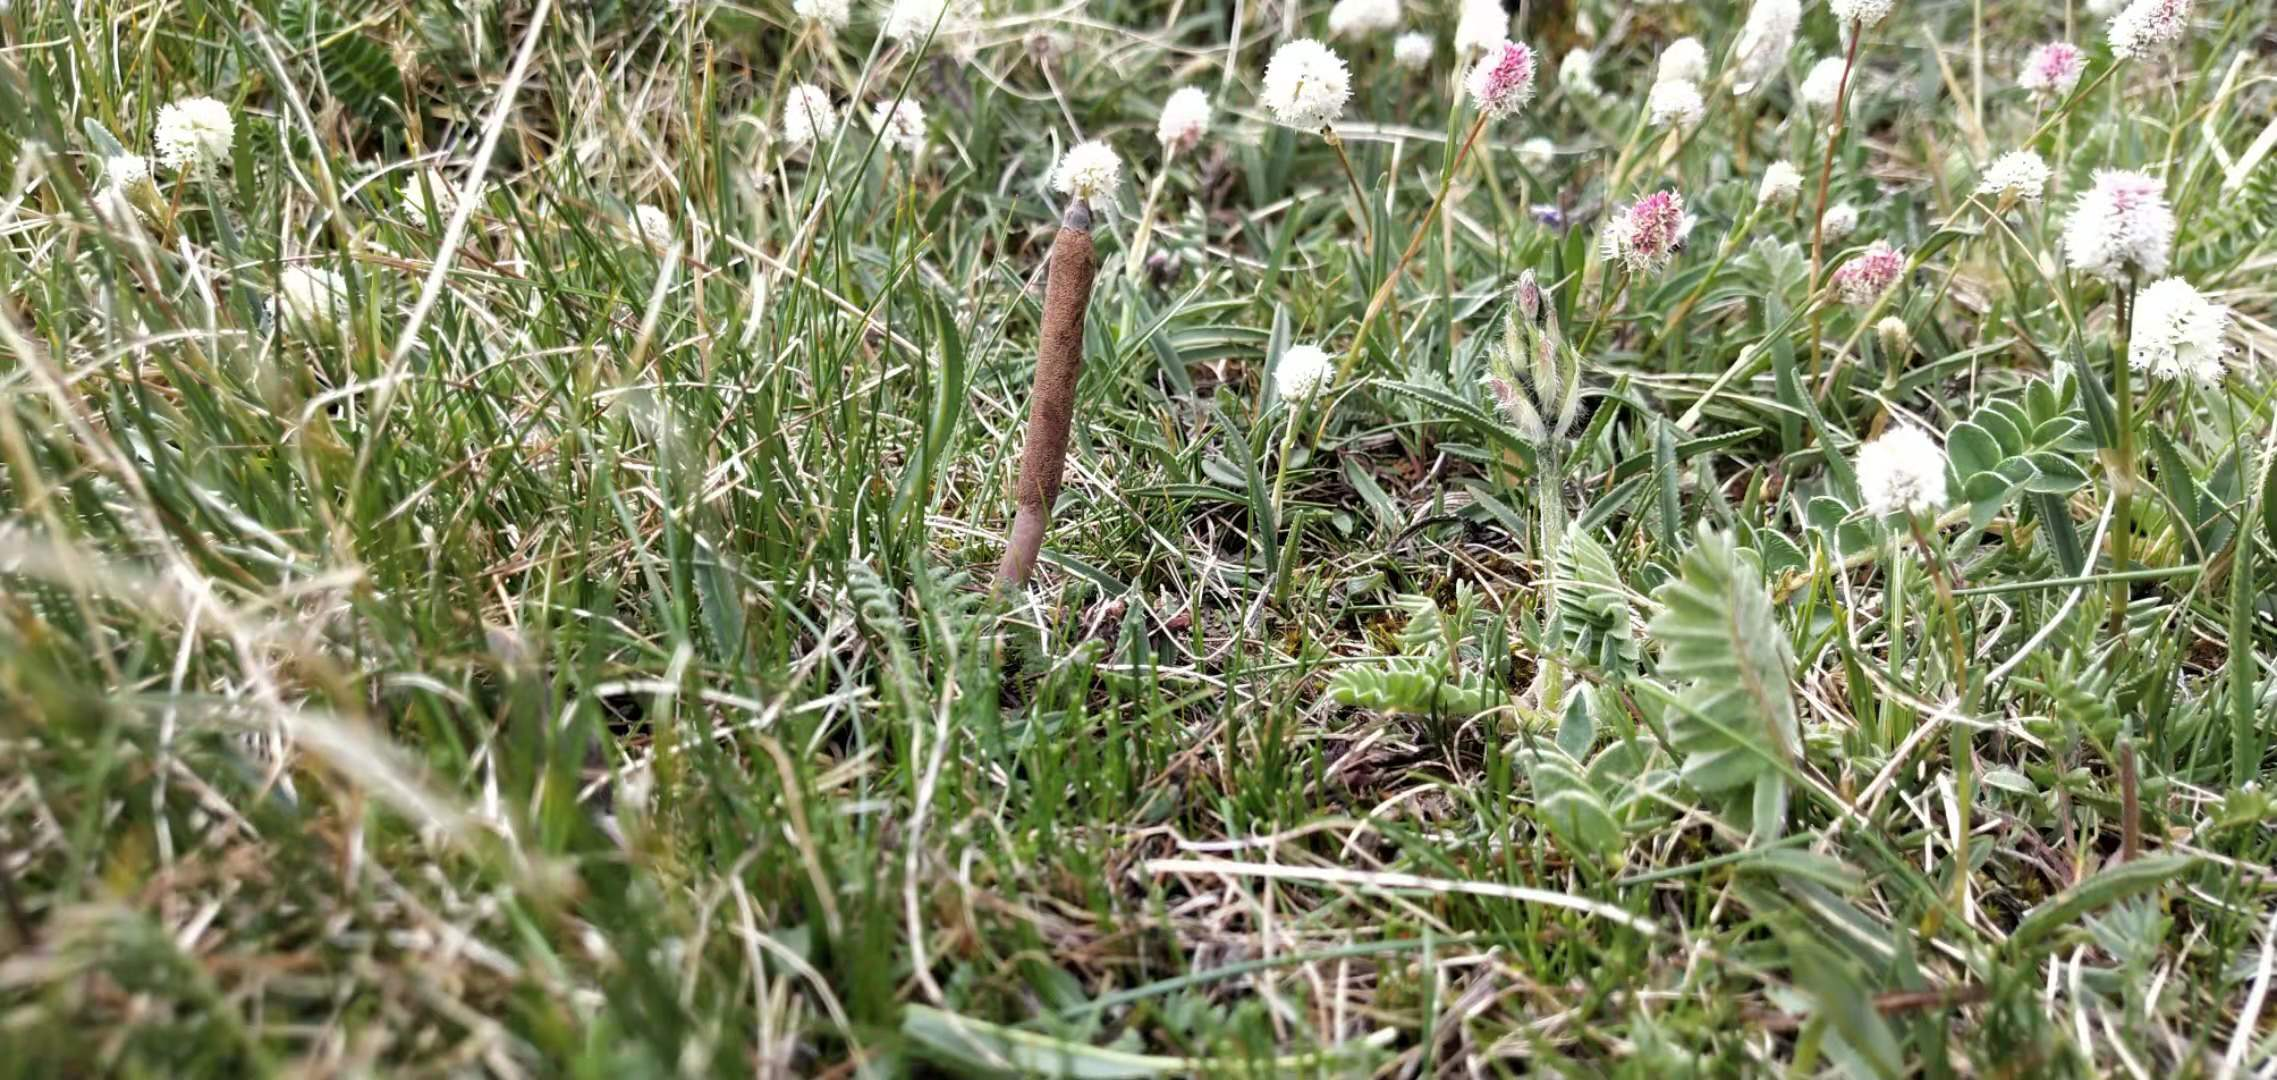cpf: (987, 184, 1096, 602)
